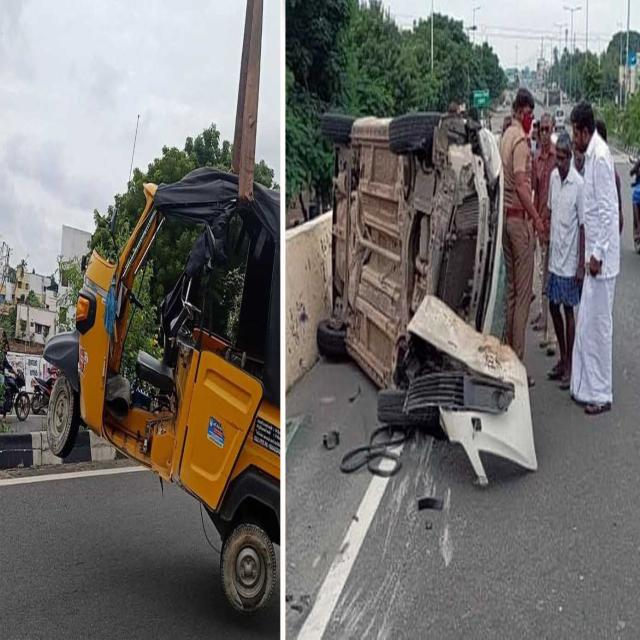accident: (45, 167, 285, 611), (318, 113, 536, 483)
